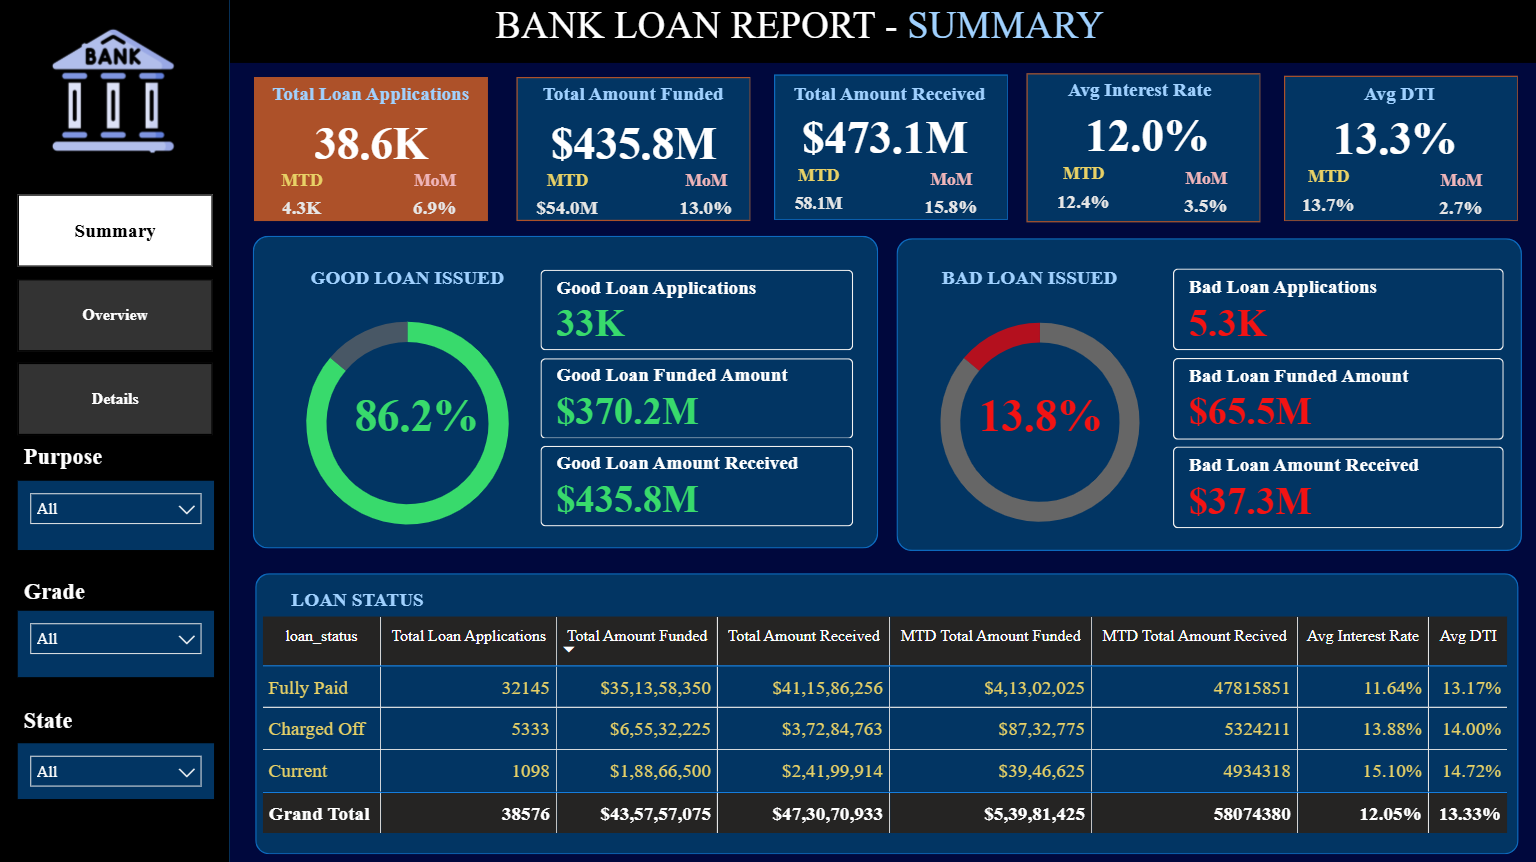

The dashboard page shown, as its layout file describes it:
{"tool":"powerbi","page":{"name":"Summary","canvas":[1280,720],"ordinal":0},"visuals":[{"type":"shape","box":[0,0,1279.7,54.8],"z":0},{"type":"shape","box":[644.7,64.9,194.8,121.1],"z":0,"group":"g5"},{"type":"shape","box":[212.4,66.5,194.8,119.7],"z":0,"group":"g2"},{"type":"shape","box":[430.6,66.5,194.8,119.7],"z":0,"group":"g4"},{"type":"shape","box":[0,0,191.8,720.3],"z":1000},{"type":"shape","box":[854.1,63.5,194.8,123.9],"z":1000,"group":"g1"},{"type":"shape","box":[1068.7,65.9,194.8,121.1],"z":1000,"group":"g7"},{"type":"card","fields":{"Values":["bank_loan_data.Total Amount Received"]},"box":[639.1,91.4,195.4,49.7],"z":1000,"group":"g5"},{"type":"card","fields":{"Values":["bank_loan_data.Total Loan Applications"]},"box":[212.1,95.6,195.4,49.1],"z":1000,"group":"g2"},{"type":"card","fields":{"Values":["bank_loan_data.Total Amount Funded"]},"box":[430.3,95.6,195.4,49.1],"z":1000,"group":"g4"},{"type":"textbox","box":[211,66.5,196.2,28.9],"z":2000,"group":"g2"},{"type":"textbox","box":[429.2,66.5,196.2,28.9],"z":2000,"group":"g4"},{"type":"textbox","box":[647.5,66.6,186.1,35],"z":2000,"group":"g5"},{"type":"shape","box":[746.7,200.1,520,260.1],"z":2000},{"type":"card","fields":{"Values":["bank_loan_data.Avg Interest Rate"]},"box":[857,88.9,194.8,50.8],"z":3000,"group":"g1"},{"type":"card","fields":{"Values":["bank_loan_data.Avg DTI"]},"box":[1063.1,92.4,195.4,49.7],"z":3000,"group":"g7"},{"type":"card","title":"MTD","fields":{"Values":["bank_loan_data.MTD Total Amount Recived"]},"box":[645.1,141,72.1,49.6],"z":3000,"group":"g5"},{"type":"card","title":"MTD","fields":{"Values":["bank_loan_data.MTD Loan Applications"]},"box":[222.9,144.7,58.7,49.1],"z":3000,"group":"g2"},{"type":"card","title":"MTD","fields":{"Values":["bank_loan_data.MTD Amount Funded"]},"box":[436.3,144.7,72.1,49.1],"z":3000,"group":"g4"},{"type":"donutChart","fields":{"Category":["bank_loan_data.Good Vs Bad Loan"],"Y":["bank_loan_data.Total Loan Applications"]},"box":[756.3,245.7,218.1,216.9],"z":3000},{"type":"card","title":"MoM","fields":{"Values":["bank_loan_data.MoM Loan Application"]},"box":[333.8,144.7,57.7,49.1],"z":4000,"group":"g2"},{"type":"card","fields":{"Values":["bank_loan_data.Bad Loan %"]},"box":[803,324.8,125.8,41.9],"z":4000},{"type":"textbox","box":[371.9,0,587.4,66.3],"z":5000},{"type":"textbox","box":[857,63.5,186.1,35.8],"z":5000,"group":"g1"},{"type":"textbox","box":[1071.7,67.3,185.8,50.3],"z":5000,"group":"g7"},{"type":"card","title":"MoM","fields":{"Values":["bank_loan_data.MoM Total Amount Recived"]},"box":[763,143.7,57.7,48.2],"z":5000,"group":"g5"},{"type":"card","title":"MoM","fields":{"Values":["bank_loan_data.MoM Total Amount Funded"]},"box":[559,144.4,57.7,47.6],"z":5000,"group":"g4"},{"type":"shape","box":[210.9,199,520,260.1],"z":6000},{"type":"card","title":"MTD","fields":{"Values":["bank_loan_data.MTD Avg Interest Rate"]},"box":[866,138.4,72.1,50.8],"z":7000,"group":"g1"},{"type":"card","title":"MTD","fields":{"Values":["bank_loan_data.MTD Avg DTI"]},"box":[1069.1,142,72.1,49.6],"z":7000,"group":"g7"},{"type":"textbox","box":[220.5,479.4,213.3,32.4],"z":7000},{"type":"group","id":"g1","title":"Group 7","box":[854.1,63.5,197.7,128.7],"z":7001,"group":"g6"},{"type":"group","id":"g2","title":"Group 6","box":[211,66.5,196.2,127],"z":7001,"group":"g3"},{"type":"group","id":"g3","title":"Group 1","box":[211,66.5,196.4,126.8],"z":8000},{"type":"card","fields":{"Values":["bank_loan_data.Good Loan %"]},"box":[287.6,318.8,118.7,55.1],"z":9000},{"type":"card","title":"MoM","fields":{"Values":["bank_loan_data.MoM Avg Interest Rate"]},"box":[974.2,142.9,57.7,49.3],"z":10000,"group":"g1"},{"type":"card","title":"MoM","fields":{"Values":["bank_loan_data.MoM Avg DTI"]},"box":[1187,144.7,57.7,48.2],"z":10000,"group":"g7"},{"type":"donutChart","fields":{"Category":["bank_loan_data.Good Vs Bad Loan"],"Y":["bank_loan_data.Total Loan Applications"]},"box":[222.9,244.5,234.9,220.5],"z":10000},{"type":"shape","box":[213.5,479,1050.3,233.7],"z":11000},{"type":"group","id":"g4","title":"Group 2","box":[429.2,66.5,195.4,126.8],"z":12000},{"type":"group","id":"g5","title":"Group 3","box":[639.1,64.9,200.3,127],"z":13000},{"type":"group","id":"g6","title":"Group 4","box":[854.1,63.5,197.7,128.7],"z":14000},{"type":"group","id":"g7","title":"Group 5","box":[1063.1,65.9,200.1,127],"z":15000},{"type":"cardVisual","fields":{"Data":["bank_loan_data.Good Loan Applications","bank_loan_data.Good Loan Funded Amount","bank_loan_data.Good Loan Amount Received"]},"box":[433.9,209.7,294.8,249.3],"z":16000},{"type":"textbox","box":[750.3,219.3,213.3,37.2],"z":17000},{"type":"cardVisual","fields":{"Data":["bank_loan_data.Bad Loan Applications","bank_loan_data.Bad Loan Funded Amount","bank_loan_data.Bad Loan Amount Received"]},"box":[958.8,208.5,309.2,250.5],"z":18000},{"type":"tableEx","fields":{"Values":["bank_loan_data.loan_status","bank_loan_data.Total Loan Applications","bank_loan_data.Total Amount Funded","bank_loan_data.Total Amount Received","bank_loan_data.MTD Total Amount Funded","bank_loan_data.MTD Total Amount Recived","bank_loan_data.Avg Interest Rate","bank_loan_data.Avg DTI"]},"box":[213.5,510.7,1050.3,202],"z":19000},{"type":"textbox","box":[232.5,219.3,213.3,41.9],"z":20000},{"type":"textbox","box":[232.5,487.8,130.6,33.6],"z":21000},{"type":"slicer","fields":{"Values":["bank_loan_data.grade"]},"box":[15.9,510.7,163,54.8],"z":22000},{"type":"textbox","box":[15.9,479,137.1,41.8],"z":23000},{"type":"slicer","fields":{"Values":["bank_loan_data.address_state"]},"box":[15.9,620.4,163,46.2],"z":24000},{"type":"textbox","box":[15.9,585.8,122.6,34.6],"z":25000},{"type":"slicer","fields":{"Values":["bank_loan_data.purpose"]},"box":[15.9,402.5,163,57.7],"z":26000},{"type":"textbox","box":[15.9,366.5,89.5,36.1],"z":27000},{"type":"pageNavigator","box":[15.6,164.2,163,202.5],"z":28000},{"type":"actionButton","box":[37.2,13.2,115.1,128.2],"z":29000}]}

Visuals, with their boxes in screenshot pixels (x1, y1, x2, y2), scaled from the page's 1280x720 canvas onto the 1536x862 screenshot:
shape: (0, 0, 1535, 66)
shape: (774, 78, 1007, 223)
shape: (255, 80, 489, 223)
shape: (517, 80, 750, 223)
shape: (0, 0, 230, 861)
shape: (1025, 76, 1259, 224)
shape: (1282, 79, 1516, 224)
card - bank_loan_data.Total Amount Received: (767, 109, 1001, 169)
card - bank_loan_data.Total Loan Applications: (255, 114, 489, 173)
card - bank_loan_data.Total Amount Funded: (516, 114, 751, 173)
textbox: (253, 80, 489, 114)
textbox: (515, 80, 750, 114)
textbox: (777, 80, 1000, 122)
shape: (896, 240, 1520, 551)
card - bank_loan_data.Avg Interest Rate: (1028, 106, 1262, 167)
card - bank_loan_data.Avg DTI: (1276, 111, 1510, 170)
"MTD" card: (774, 169, 861, 228)
"MTD" card: (267, 173, 338, 232)
"MTD" card: (524, 173, 610, 232)
donutChart - bank_loan_data.Good Vs Bad Loan x bank_loan_data.Total Loan Applications: (908, 294, 1169, 554)
"MoM" card: (401, 173, 470, 232)
card - bank_loan_data.Bad Loan %: (964, 389, 1115, 439)
textbox: (446, 0, 1151, 79)
textbox: (1028, 76, 1252, 119)
textbox: (1286, 81, 1509, 141)
"MoM" card: (916, 172, 985, 230)
"MoM" card: (671, 173, 740, 230)
shape: (253, 238, 877, 550)
"MTD" card: (1039, 166, 1126, 227)
"MTD" card: (1283, 170, 1369, 229)
textbox: (265, 574, 521, 613)
"Group 7" group: (1025, 76, 1262, 230)
"Group 6" group: (253, 80, 489, 232)
"Group 1" group: (253, 80, 489, 231)
card - bank_loan_data.Good Loan %: (345, 382, 488, 448)
"MoM" card: (1169, 171, 1238, 230)
"MoM" card: (1424, 173, 1494, 231)
donutChart - bank_loan_data.Good Vs Bad Loan x bank_loan_data.Total Loan Applications: (267, 293, 549, 557)
shape: (256, 573, 1517, 853)
"Group 2" group: (515, 80, 750, 231)
"Group 3" group: (767, 78, 1007, 230)
"Group 4" group: (1025, 76, 1262, 230)
"Group 5" group: (1276, 79, 1516, 231)
cardVisual - bank_loan_data.Good Loan Applications x bank_loan_data.Good Loan Funded Amount: (521, 251, 874, 550)
textbox: (900, 263, 1156, 307)
cardVisual - bank_loan_data.Bad Loan Applications x bank_loan_data.Bad Loan Funded Amount: (1151, 250, 1522, 550)
tableEx - bank_loan_data.loan_status x bank_loan_data.Total Loan Applications: (256, 611, 1517, 853)
textbox: (279, 263, 535, 313)
textbox: (279, 584, 436, 624)
slicer - bank_loan_data.grade: (19, 611, 215, 677)
textbox: (19, 573, 184, 624)
slicer - bank_loan_data.address_state: (19, 743, 215, 798)
textbox: (19, 701, 166, 743)
slicer - bank_loan_data.purpose: (19, 482, 215, 551)
textbox: (19, 439, 126, 482)
pageNavigator: (19, 197, 214, 439)
actionButton: (45, 16, 183, 169)
